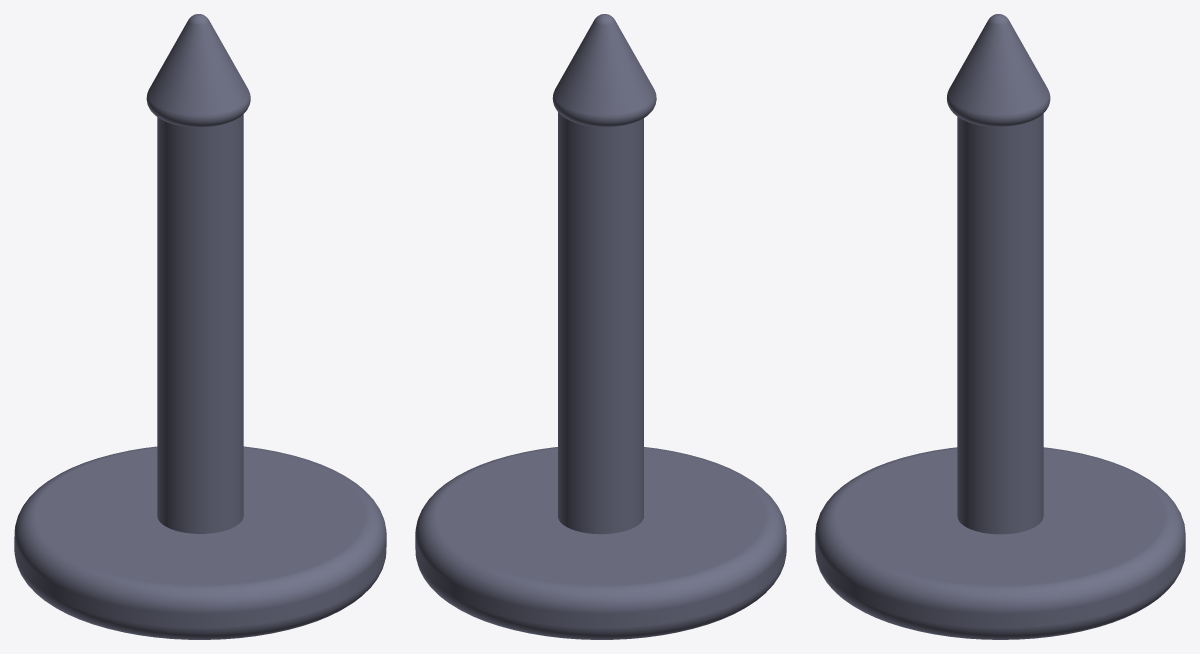
Rendered from Nail.fbx.
3 renders of one model, left to right at view 1: azimuth 30°, elevation 25°; view 2: azimuth 150°, elevation 25°; view 3: azimuth 270°, elevation 25°, orthographic.
Parts seen in each view (by area): view 1: Tube, Tube 1, Cone; view 2: Tube, Tube 1, Cone; view 3: Tube, Tube 1, Cone.
Boxes of the visible parts, left/top/right/bottom form: Tube: left=14, top=446, right=386, bottom=639; Tube 1: left=157, top=114, right=243, bottom=533; Cone: left=146, top=14, right=250, bottom=127; Tube: left=415, top=447, right=786, bottom=639; Tube 1: left=558, top=112, right=643, bottom=534; Cone: left=552, top=14, right=656, bottom=127; Tube: left=815, top=447, right=1185, bottom=639; Tube 1: left=957, top=113, right=1043, bottom=534; Cone: left=946, top=14, right=1050, bottom=126.
Bounding box in the file's own units: 69.8 × 69.8 × 115.
